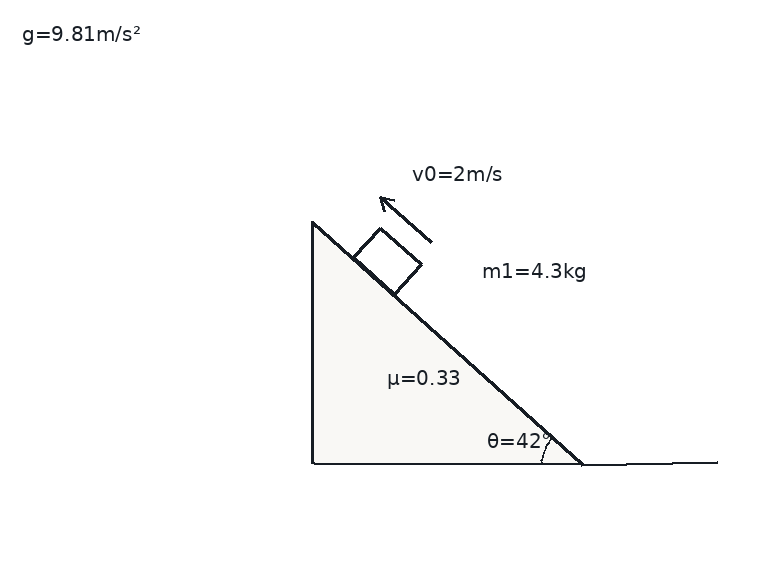block: (351, 225, 423, 297)
ramp: (311, 220, 584, 466)
